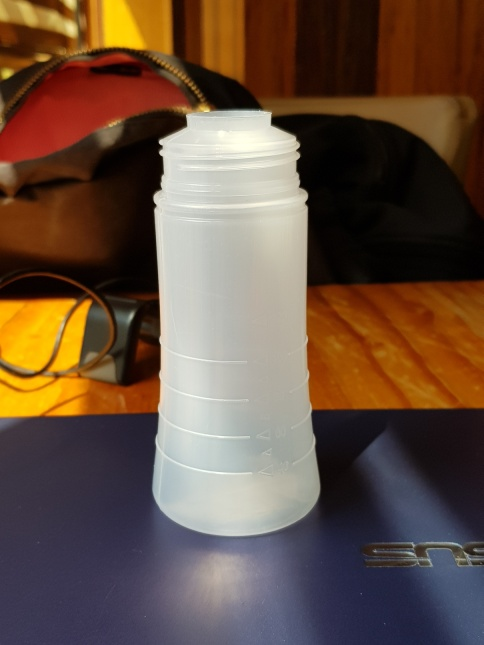Plastic: (140, 102, 322, 543)
